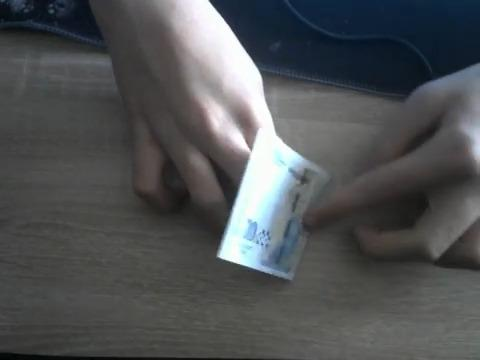20leva: (216, 116, 331, 282)
